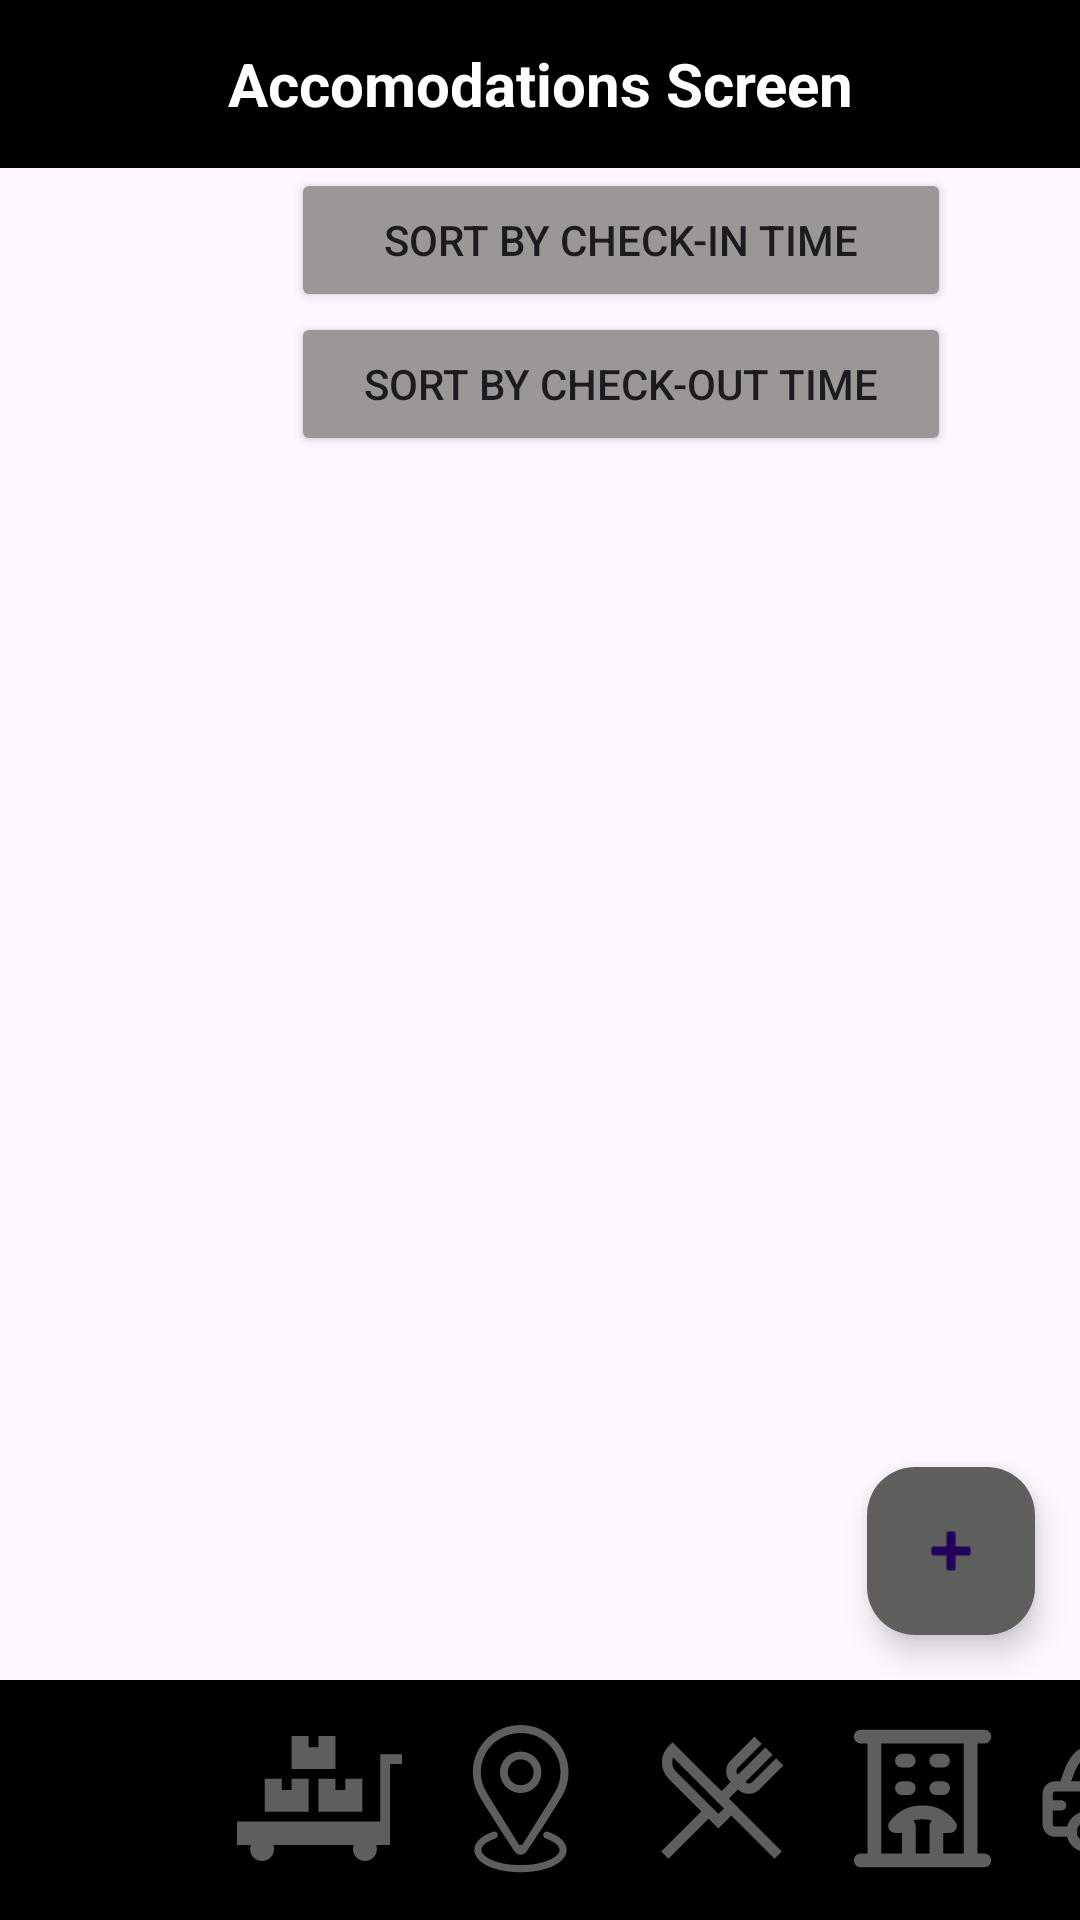

Locate icon controls on the screen. Image size 1080x1920, boxes as box=[x1, y1, x2, y2].
Accommodations: box=[854, 1730, 991, 1867]
add: box=[867, 1467, 1035, 1635]
Destination: box=[473, 1725, 569, 1872]
Dining Establishments: box=[661, 1737, 783, 1859]
Logistics: box=[237, 1736, 402, 1861]
